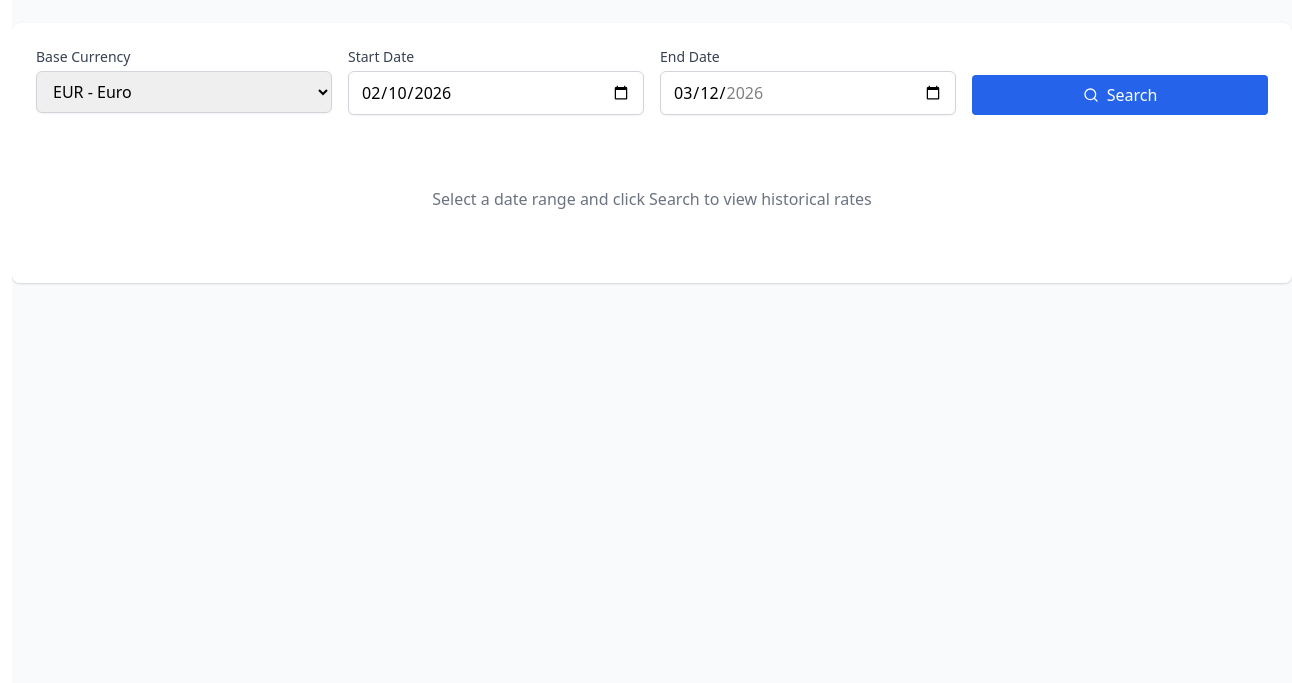
Test: HistoryPage › allows changing page size
This screenshot has width=1292, height=683.
Click the button "Search": (1120, 95) [972, 75, 1268, 115]
(page scrolled)
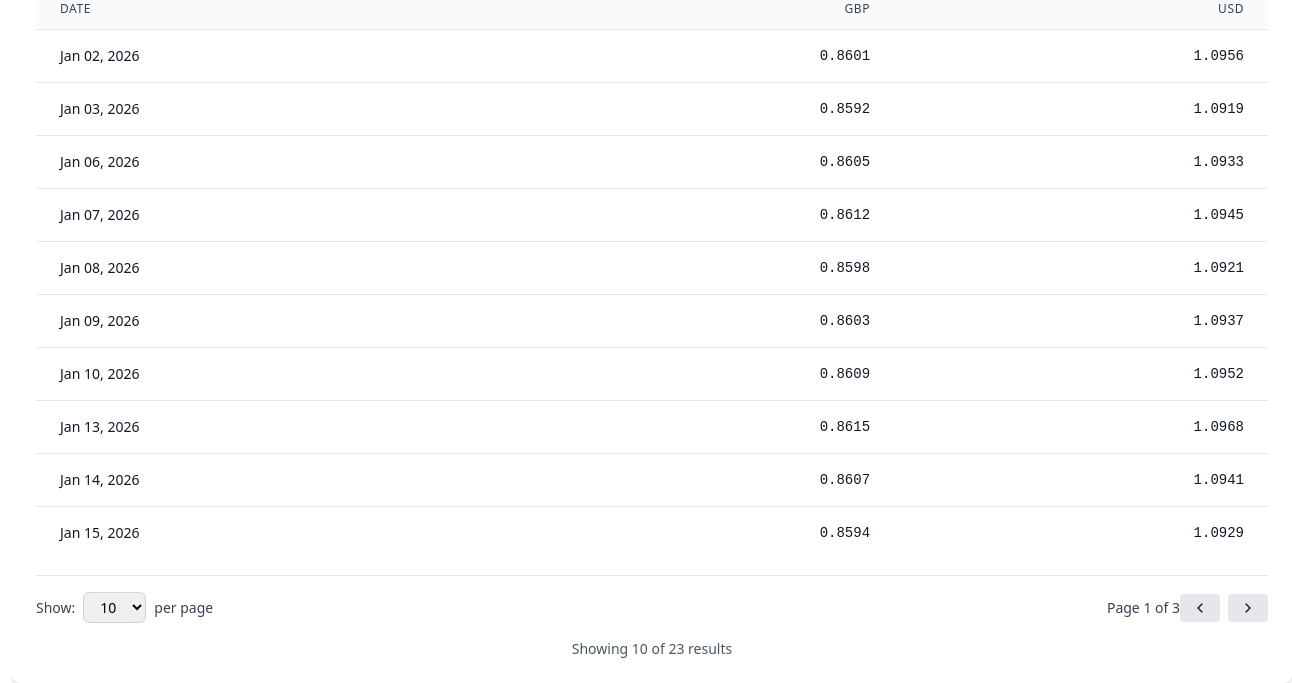
Now the dropdown labelled "Show:" is shown
Select "25" in the dropdown labelled "Show:": (115, 608) [83, 592, 146, 623]
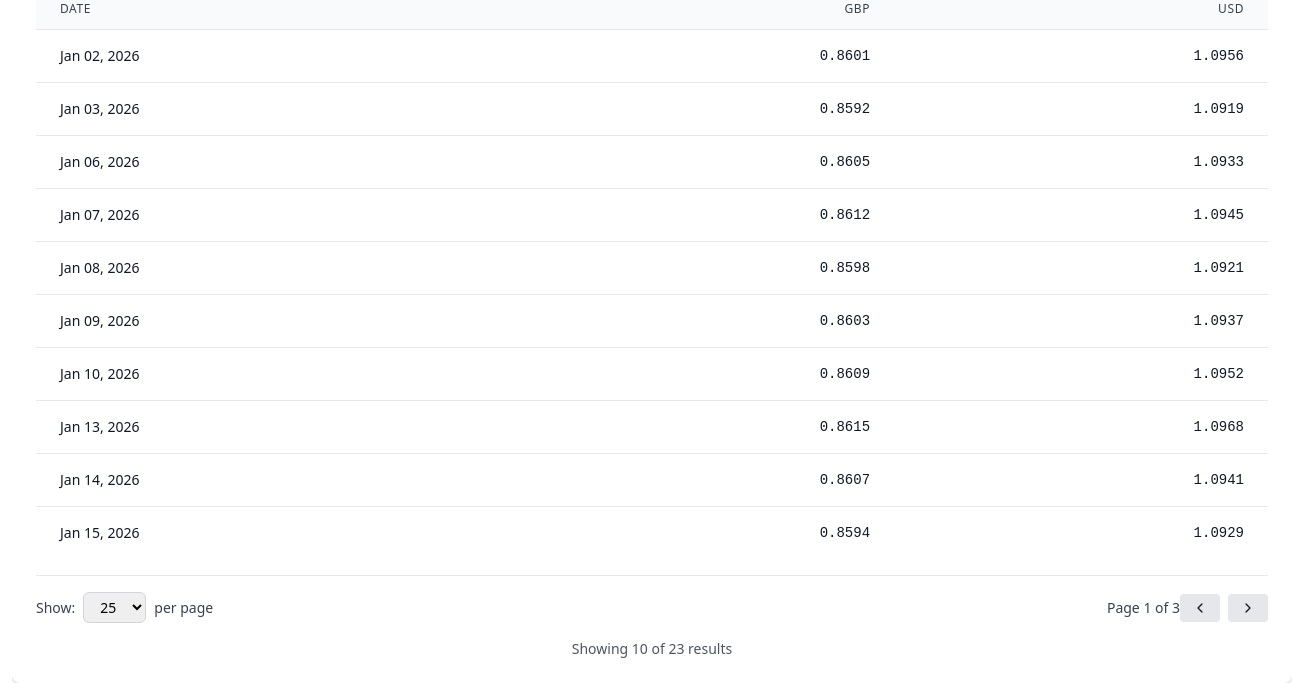
Now the dropdown labelled "Show:" shows "25", box [83, 592, 146, 623]
